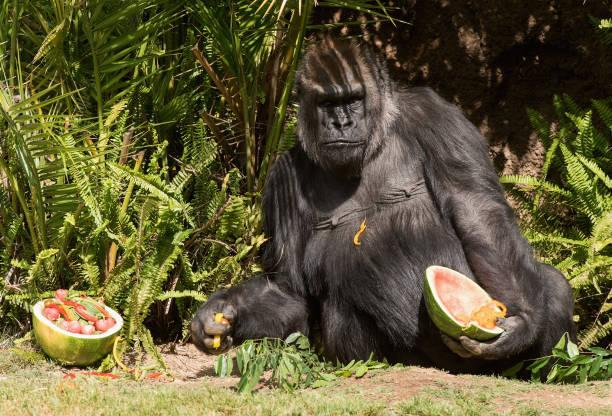gorille_Autres: (231, 8, 550, 360)
